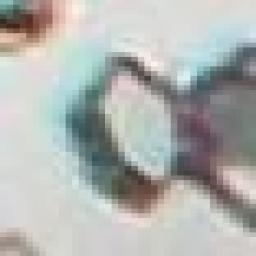crystals: (69, 49, 187, 222)
